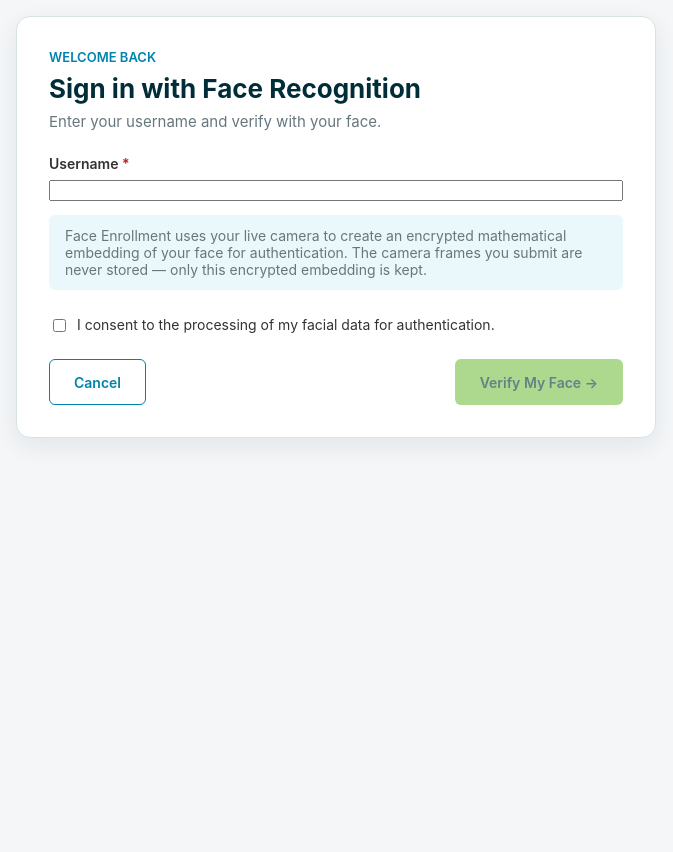
Test case: FaceLoginPage › shows the camera permission error state
The width and height of the screenshot is (673, 852).
Type "employee.username" into the field labelled "Username *".
click(336, 190); type("employee.username")  # box [49,180,623,201]
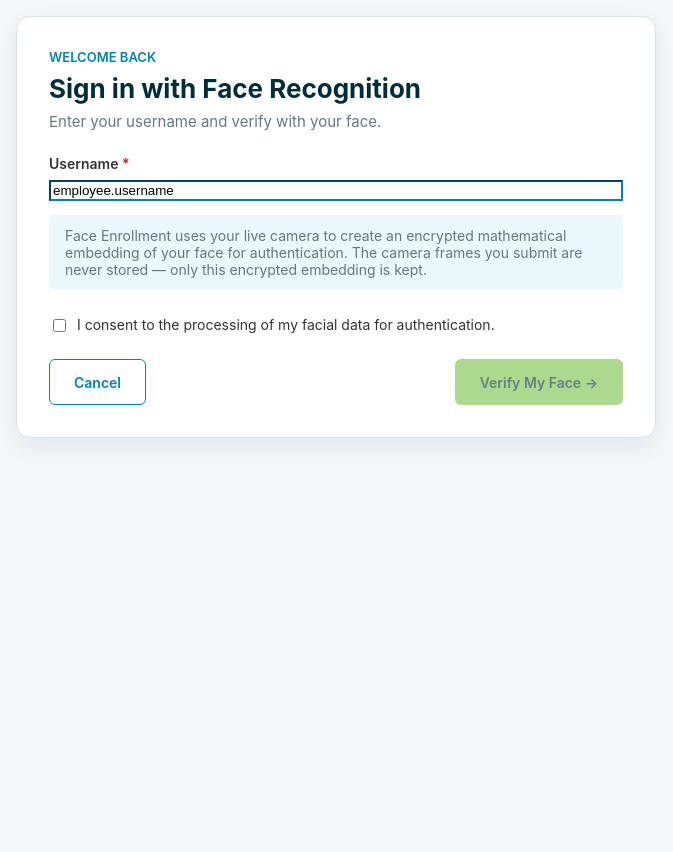
Click the checkbox labelled "I consent to the processing of my facial data".
click(60, 326)  # box [53,319,66,332]
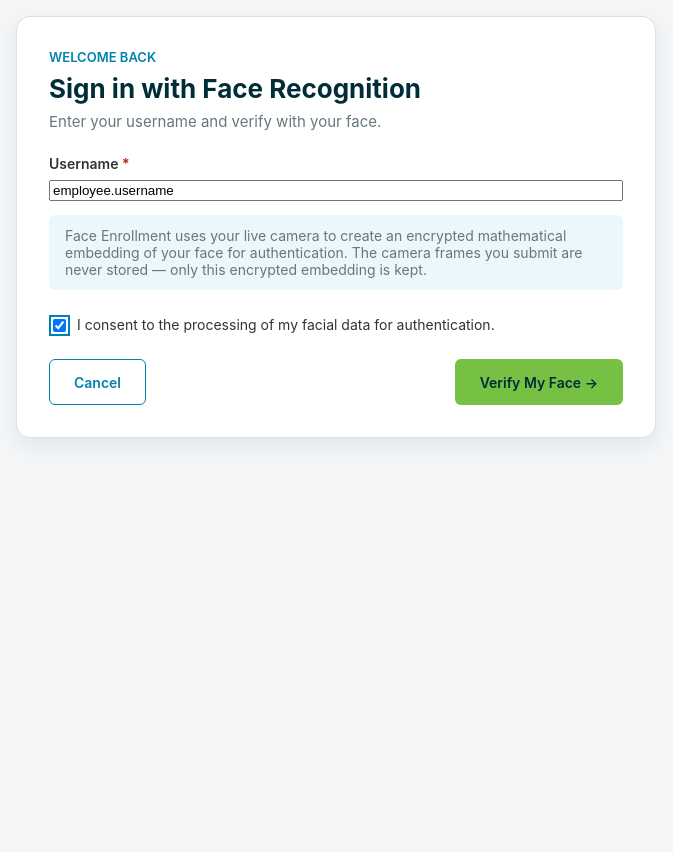
Click the button "Verify My Face →".
click(539, 382)  # box [455,359,623,405]
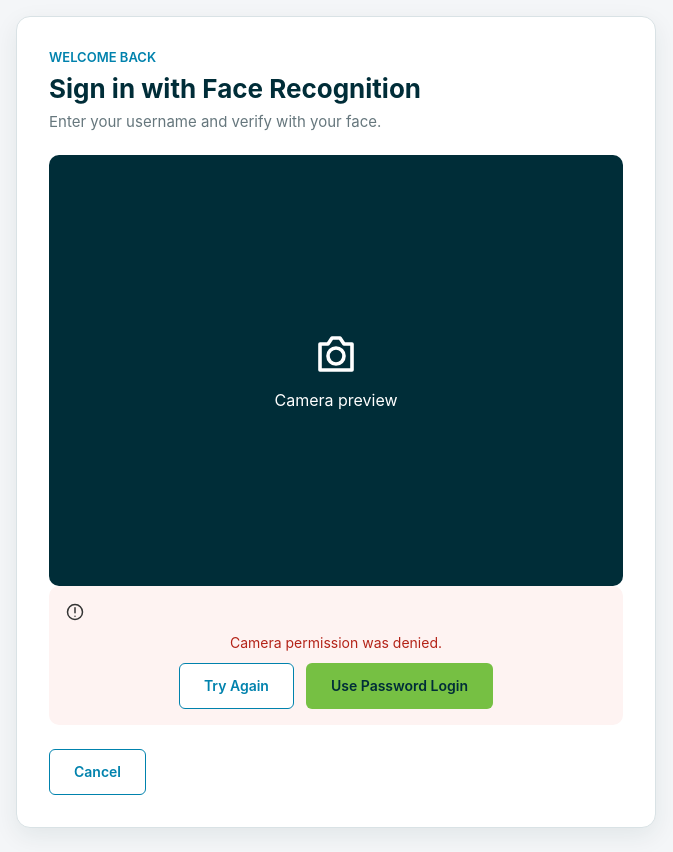
Check: the text "Camera permission was denied." is shown, box [230,634,442,650]
